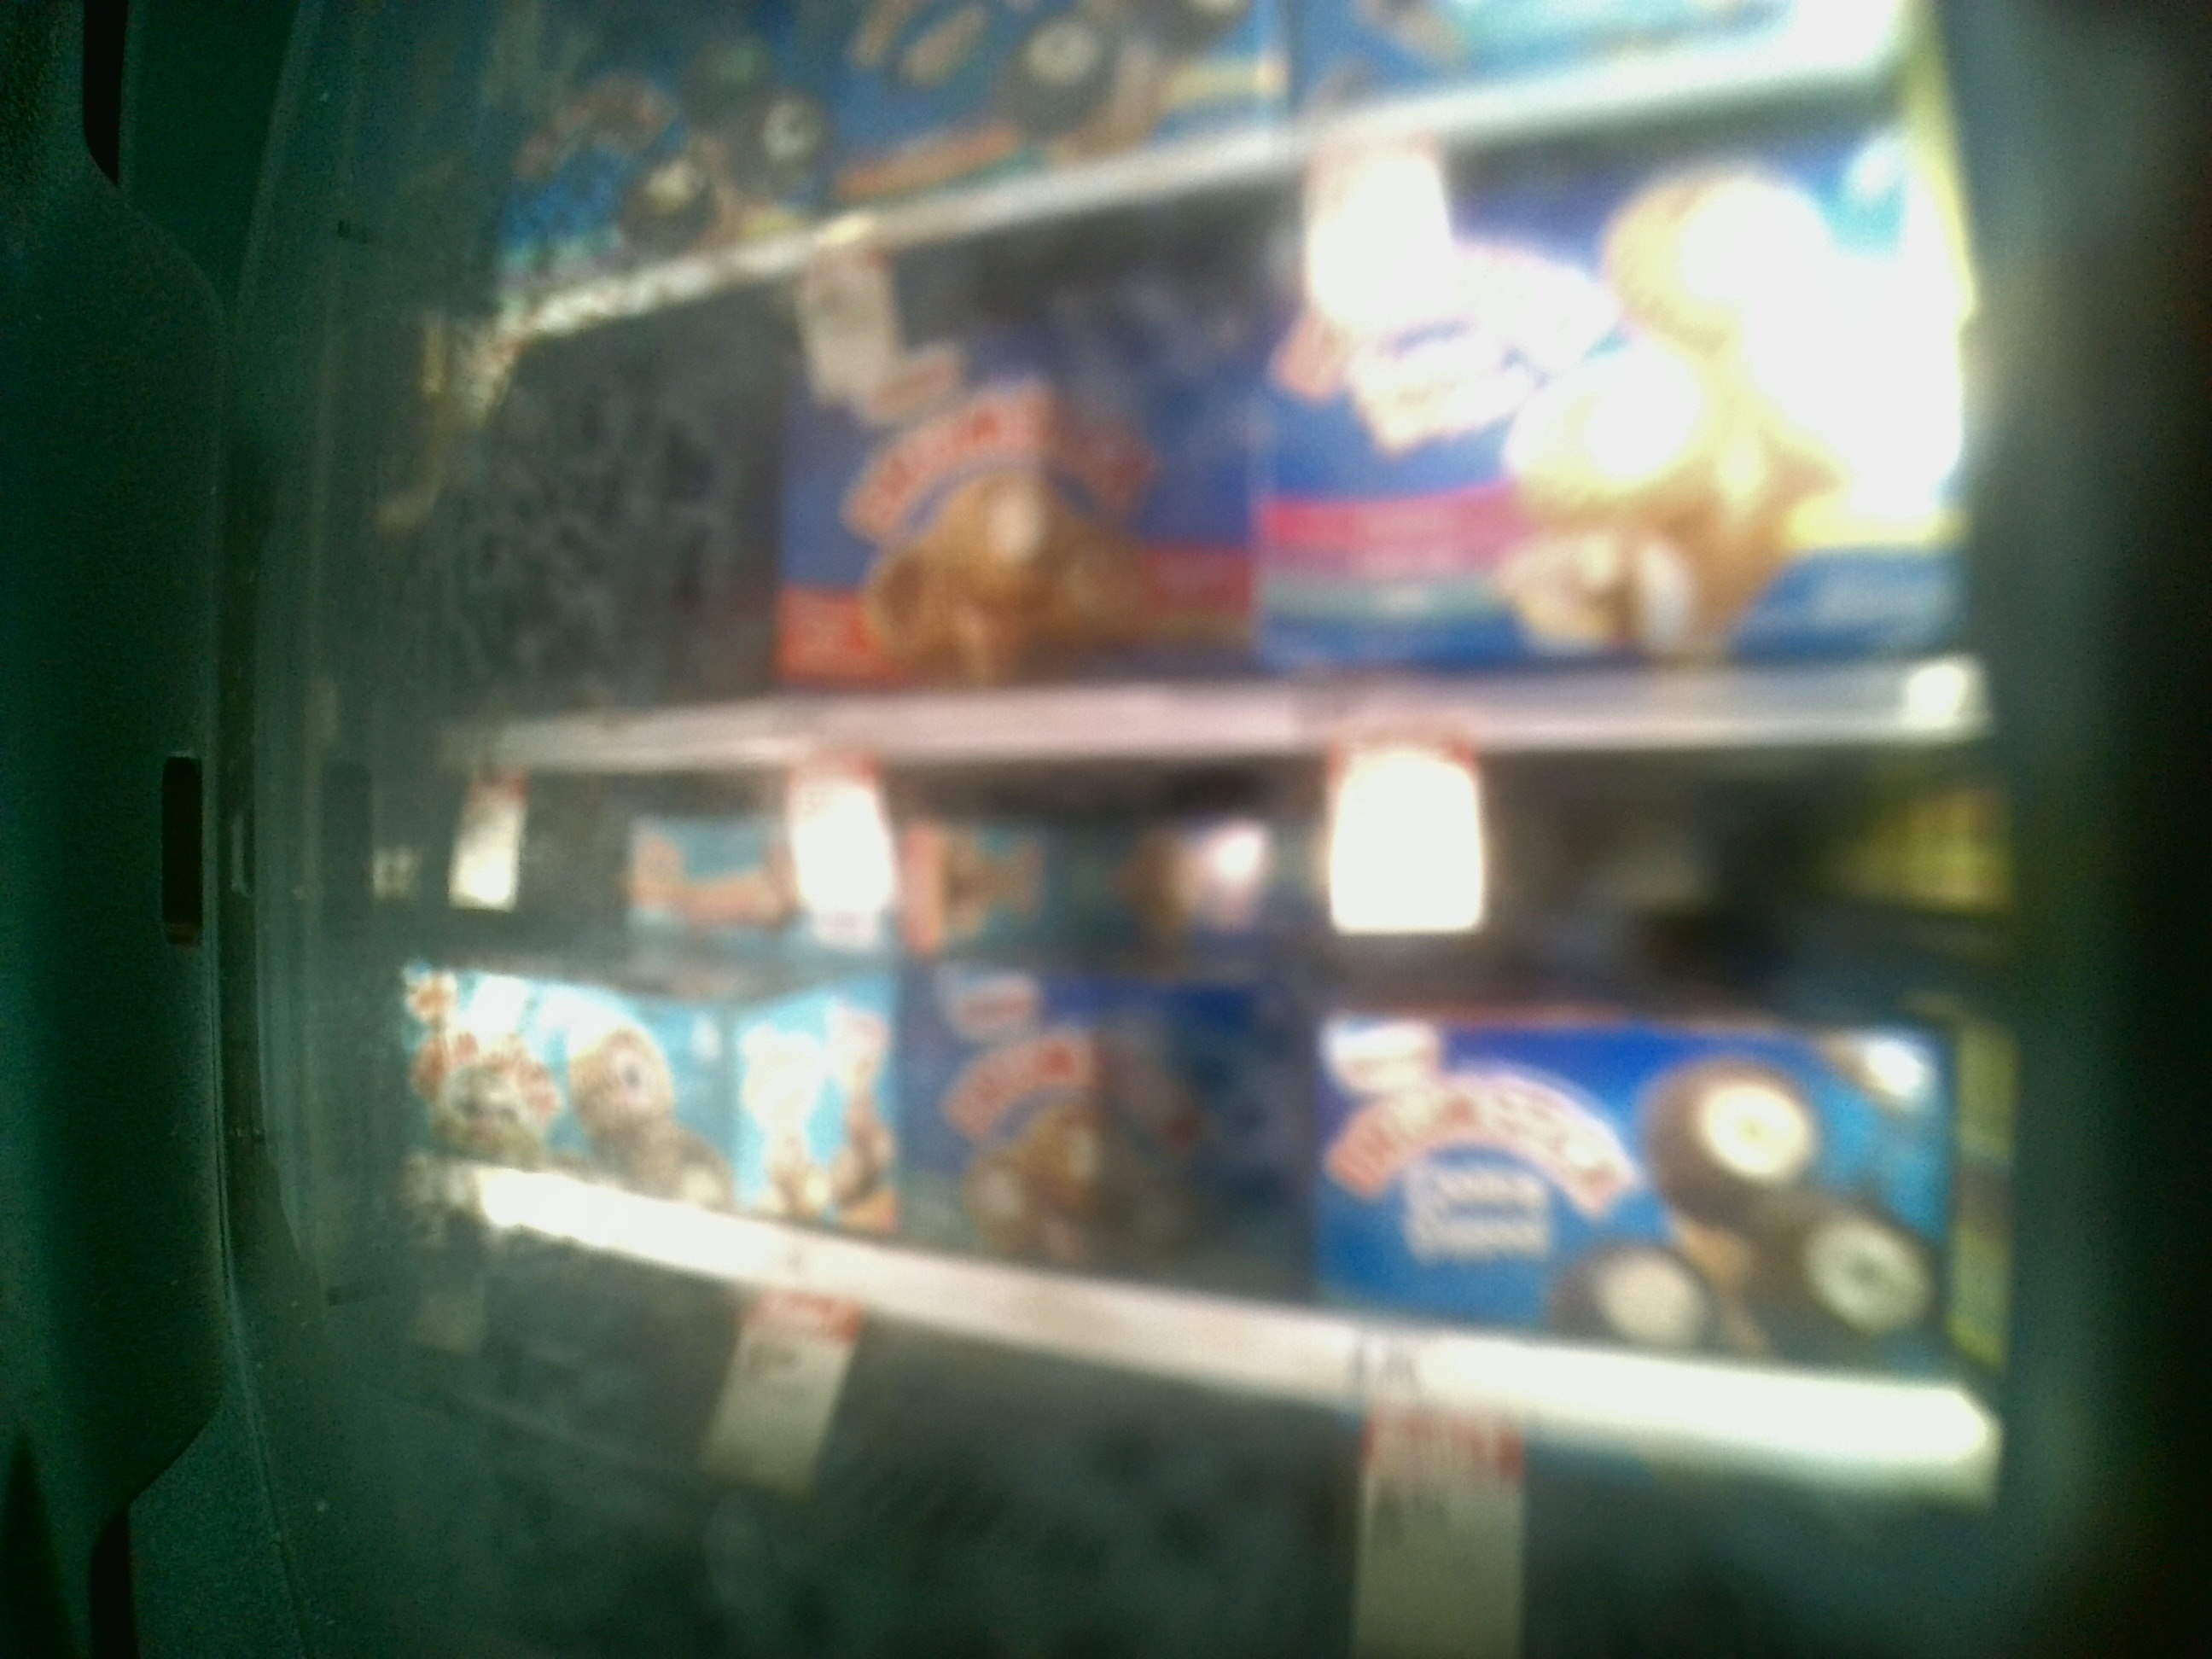shelf: (420, 723, 2005, 1469)
